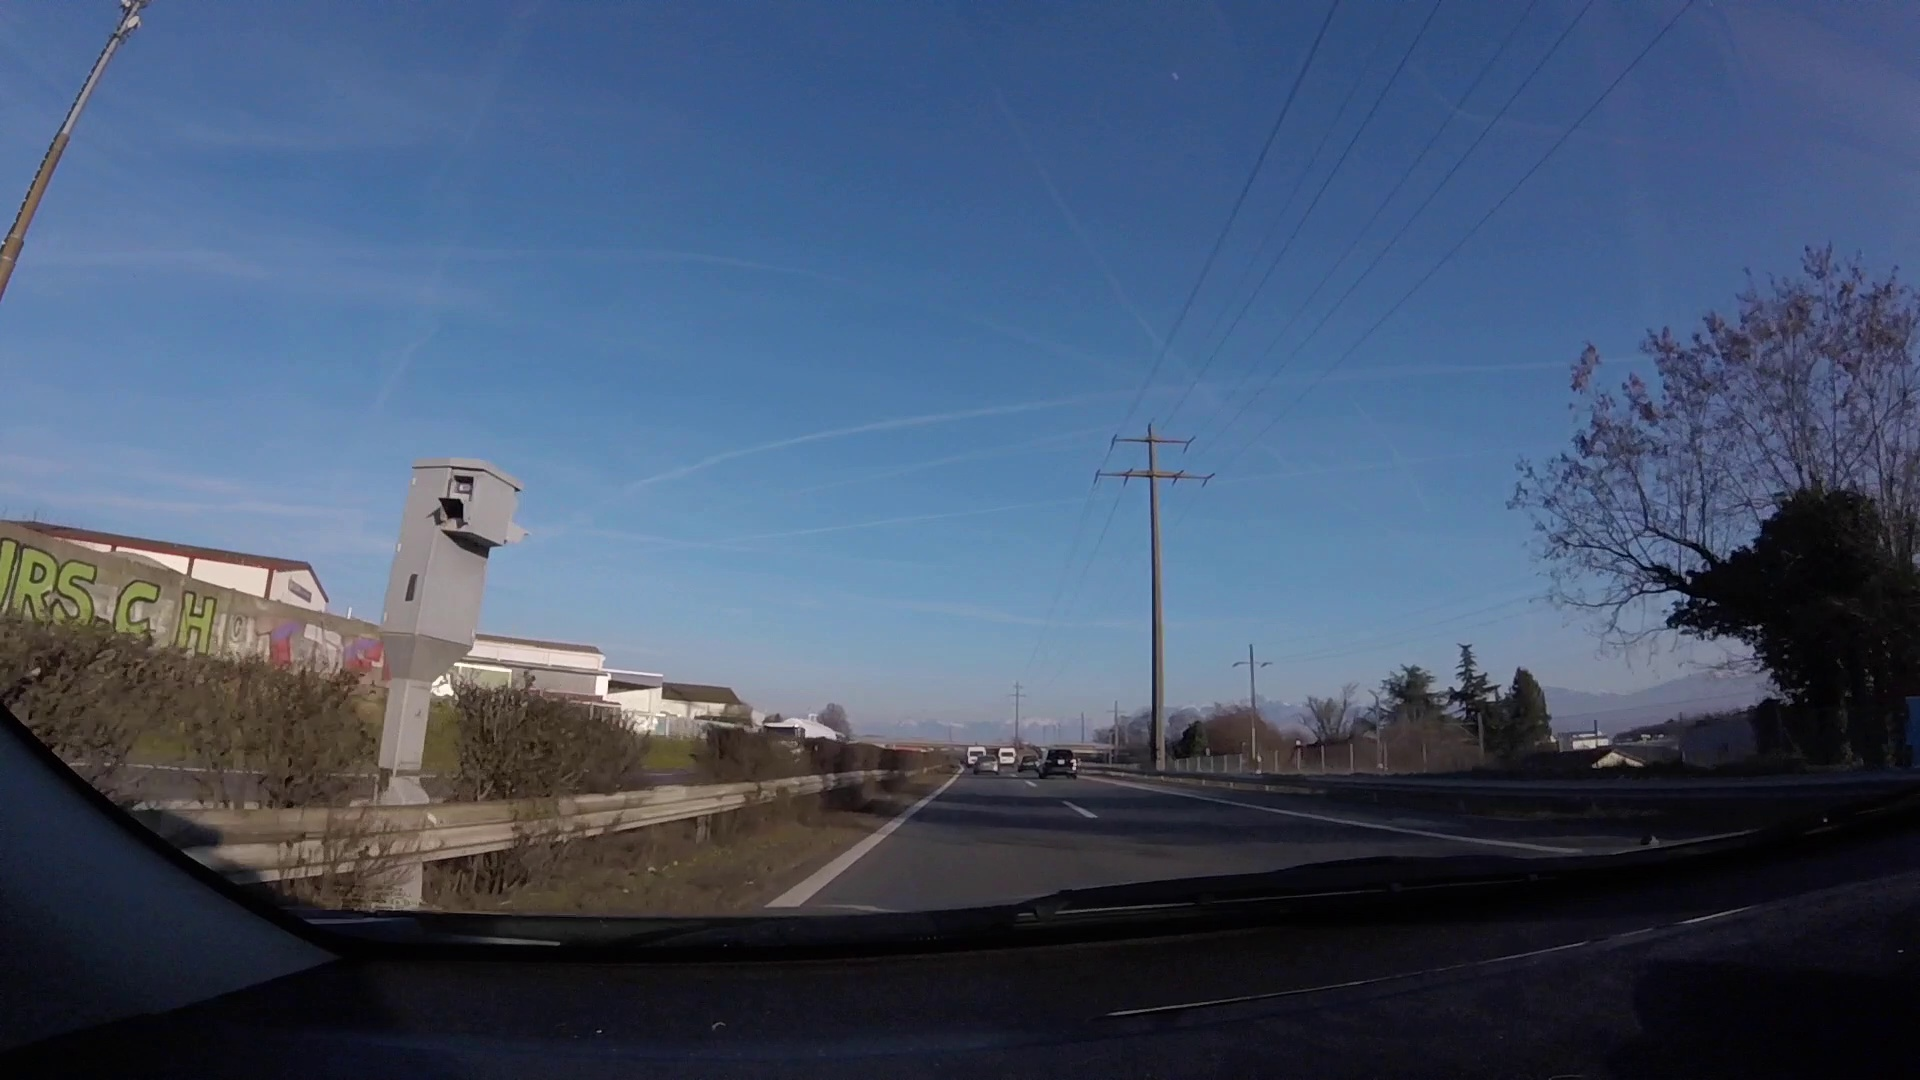radar: (378, 456, 533, 756)
